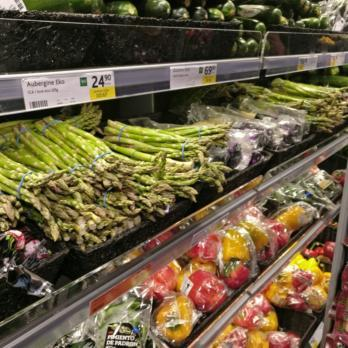Asparagus: (2, 118, 136, 237), (142, 106, 238, 208), (246, 79, 348, 131)
